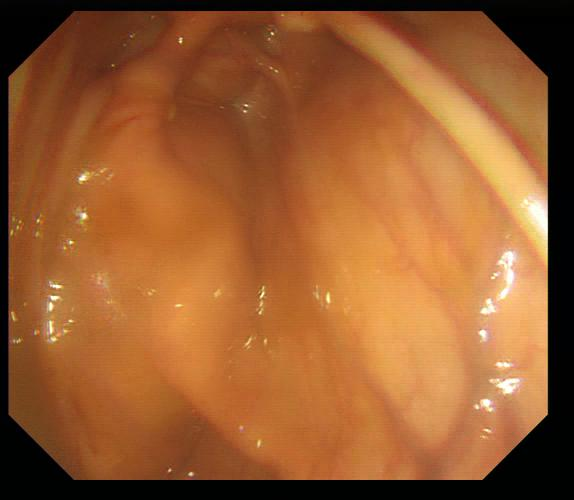polyp: (115, 59, 177, 98), (269, 12, 318, 36)
